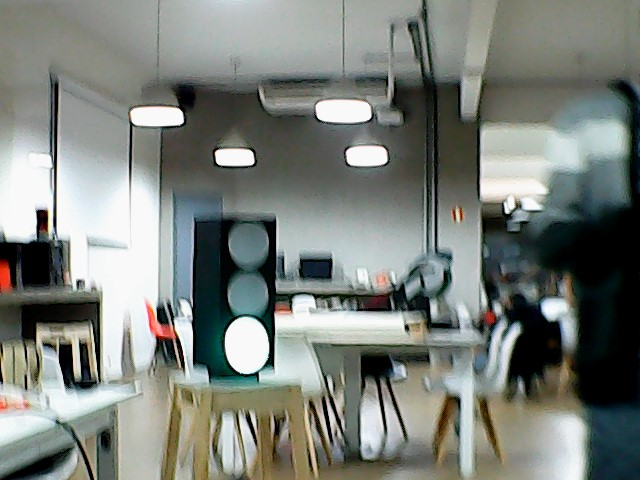verde: (188, 213, 281, 389)
